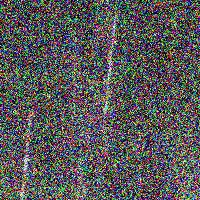scratches: (64, 73, 95, 197), (100, 4, 124, 118), (15, 106, 39, 195), (131, 117, 151, 200)
